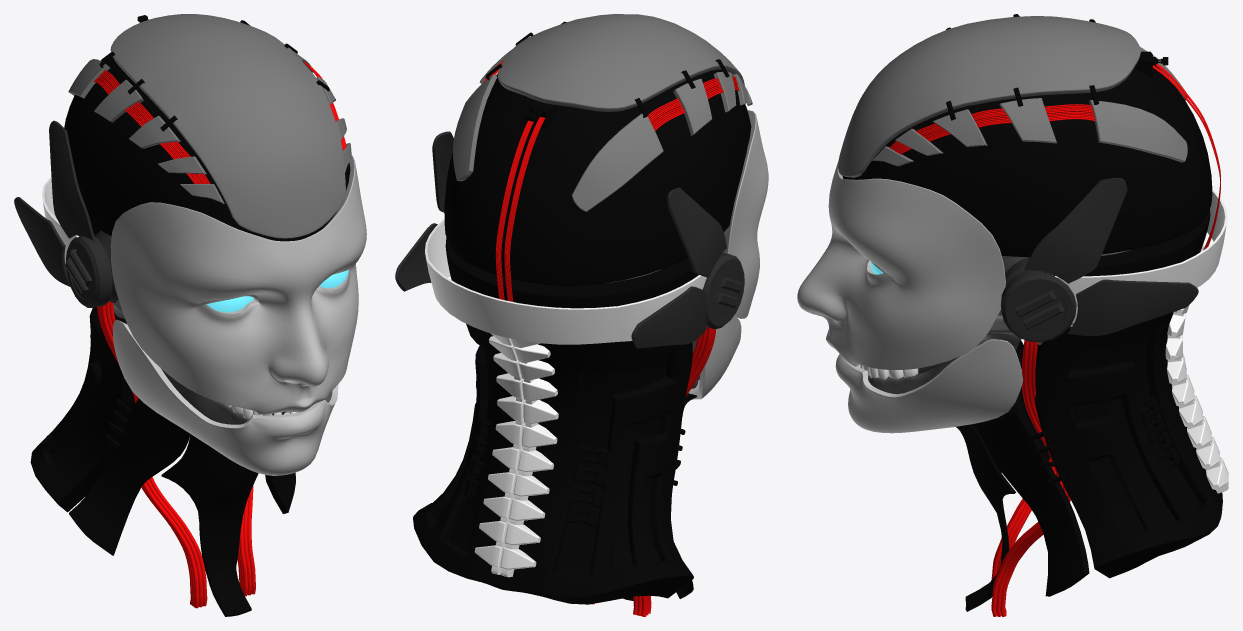
Rendered from robo_face.glb.
3 views of the same model, side by side, from view 1: azimuth 30°, elevation 25°; view 2: azimuth 150°, elevation 25°; view 3: azimuth 270°, elevation 25° (orthographic). The views are drawn at different scales.
Visible parts, largest first — view 1: polySurface1, polySurface4, polySurface12, polySurface2, NECK, polySurface10, polySurface8, polySurface18, polySurface16, pCylinder55, pCylinder1, pCylinder34 (+4 smaller); view 2: NECK, polySurface12, polySurface4, pCube12, polySurface13, polySurface18, polySurface16, polySurface1, pCylinder54, pCylinder1, polySurface2, pCylinder55 (+4 smaller); view 3: NECK, polySurface12, polySurface1, polySurface4, polySurface18, polySurface2, polySurface10, polySurface16, pCube12, pCylinder1, pCylinder55, polySurface13 (+5 smaller).
Boxes of the visible parts, left/top/right/bottom form: polySurface1: left=110, top=155, right=366, bottom=414; polySurface4: left=110, top=14, right=345, bottom=238; polySurface12: left=64, top=52, right=350, bottom=241; polySurface2: left=113, top=320, right=338, bottom=475; NECK: left=30, top=225, right=135, bottom=512; polySurface10: left=69, top=398, right=295, bottom=555; polySurface8: left=161, top=412, right=285, bottom=616; polySurface18: left=14, top=120, right=95, bottom=286; polySurface16: left=68, top=49, right=351, bottom=203; pCylinder55: left=97, top=301, right=255, bottom=608; pCylinder1: left=66, top=231, right=118, bottom=307; pCylinder34: left=93, top=61, right=346, bottom=183; NECK: left=413, top=237, right=698, bottom=604; polySurface12: left=444, top=69, right=751, bottom=285; polySurface4: left=497, top=14, right=744, bottom=111; pCube12: left=474, top=333, right=558, bottom=577; polySurface13: left=425, top=219, right=706, bottom=344; polySurface18: left=395, top=131, right=726, bottom=348; polySurface16: left=452, top=36, right=752, bottom=212; polySurface1: left=723, top=110, right=768, bottom=318; pCylinder54: left=463, top=419, right=609, bottom=526; pCylinder1: left=698, top=252, right=744, bottom=329; polySurface2: left=688, top=315, right=741, bottom=399; pCylinder55: left=591, top=327, right=716, bottom=616; NECK: left=1035, top=209, right=1222, bottom=578; polySurface12: left=842, top=65, right=1212, bottom=257; polySurface1: left=797, top=162, right=1005, bottom=369; polySurface4: left=838, top=16, right=1140, bottom=177; polySurface18: left=1024, top=178, right=1198, bottom=335; polySurface2: left=835, top=339, right=1023, bottom=433; polySurface10: left=973, top=340, right=1089, bottom=596; polySurface16: left=872, top=47, right=1187, bottom=166; pCube12: left=1165, top=245, right=1228, bottom=493; pCylinder1: left=1000, top=257, right=1076, bottom=342; pCylinder55: left=991, top=340, right=1070, bottom=616; polySurface13: left=1055, top=189, right=1227, bottom=326.
Size of the model in its own units: 1.27 by 2.62 by 1.78.
